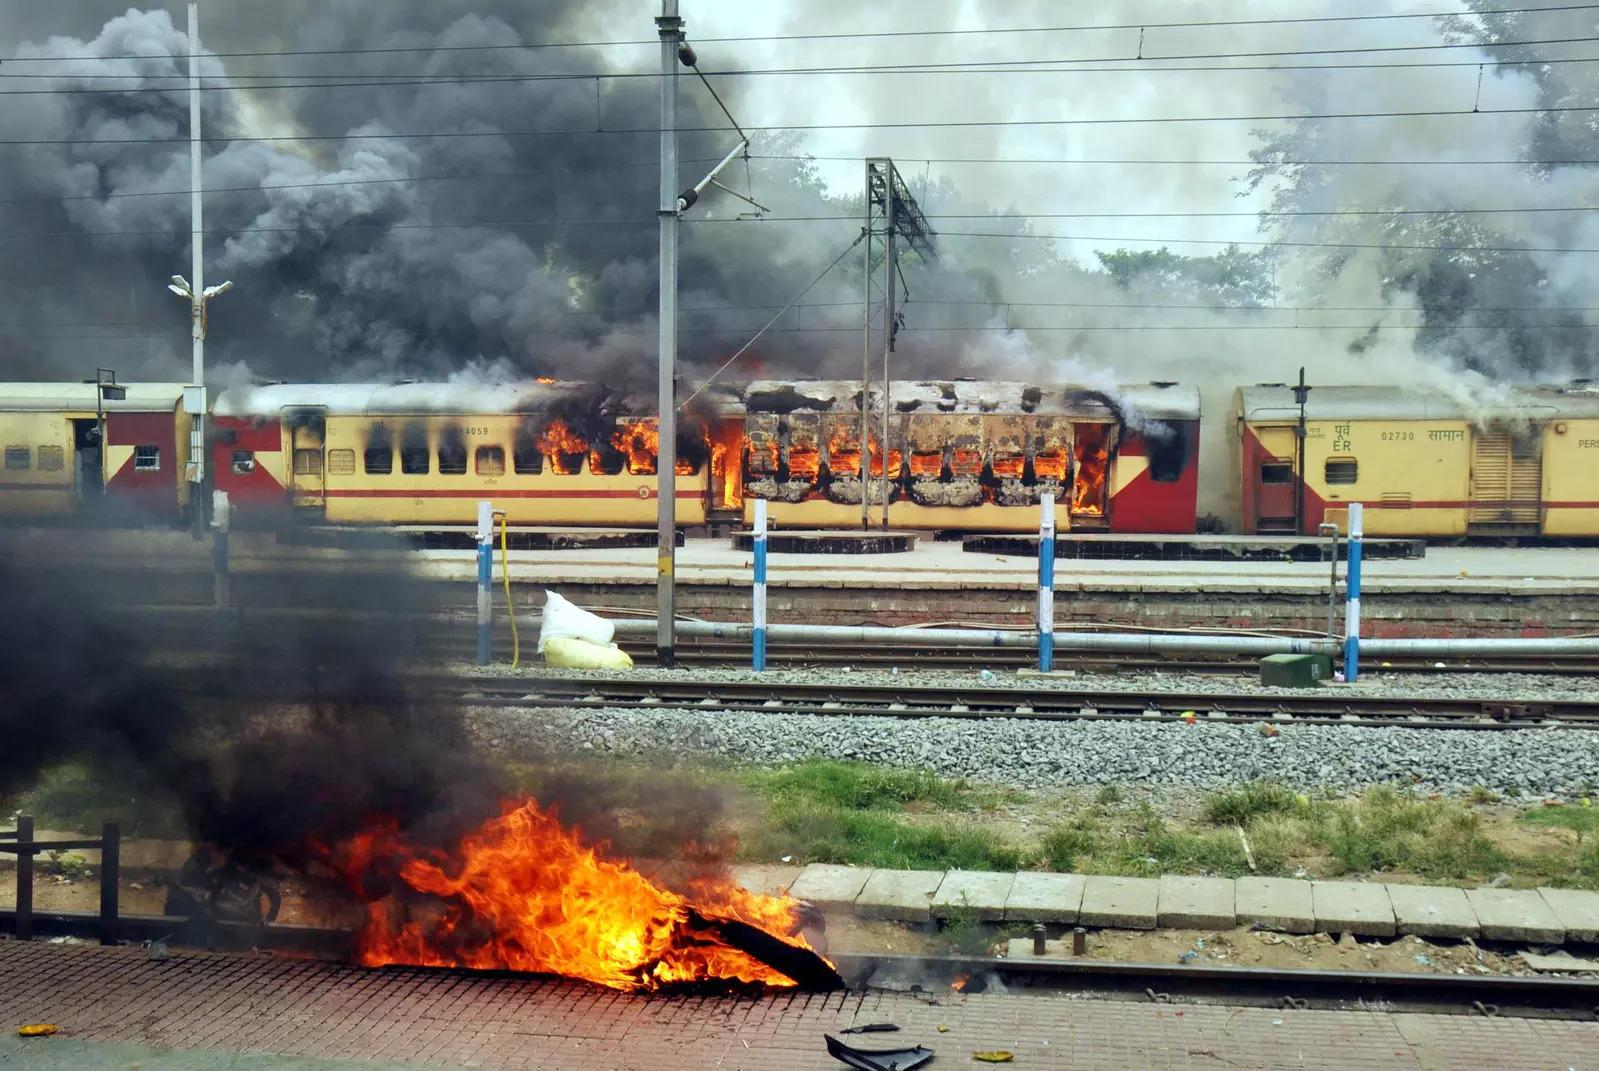fire: (351, 804, 808, 994), (1071, 447, 1109, 516), (539, 423, 584, 475), (615, 423, 658, 476), (829, 443, 860, 478), (1036, 449, 1067, 481), (789, 447, 817, 481), (909, 454, 943, 477), (952, 453, 982, 476), (724, 466, 739, 508), (993, 458, 1024, 476), (711, 446, 725, 476), (888, 452, 905, 476), (590, 449, 604, 476), (770, 445, 779, 471), (985, 490, 997, 503), (746, 439, 754, 455), (869, 441, 875, 455)
smoke: (203, 1, 661, 384), (0, 491, 477, 808), (896, 261, 1560, 433), (1299, 0, 1599, 314), (0, 0, 194, 388), (823, 5, 1275, 161), (676, 164, 866, 382), (169, 812, 349, 913), (538, 753, 718, 843), (679, 45, 749, 163), (843, 926, 937, 993), (526, 385, 656, 423)
